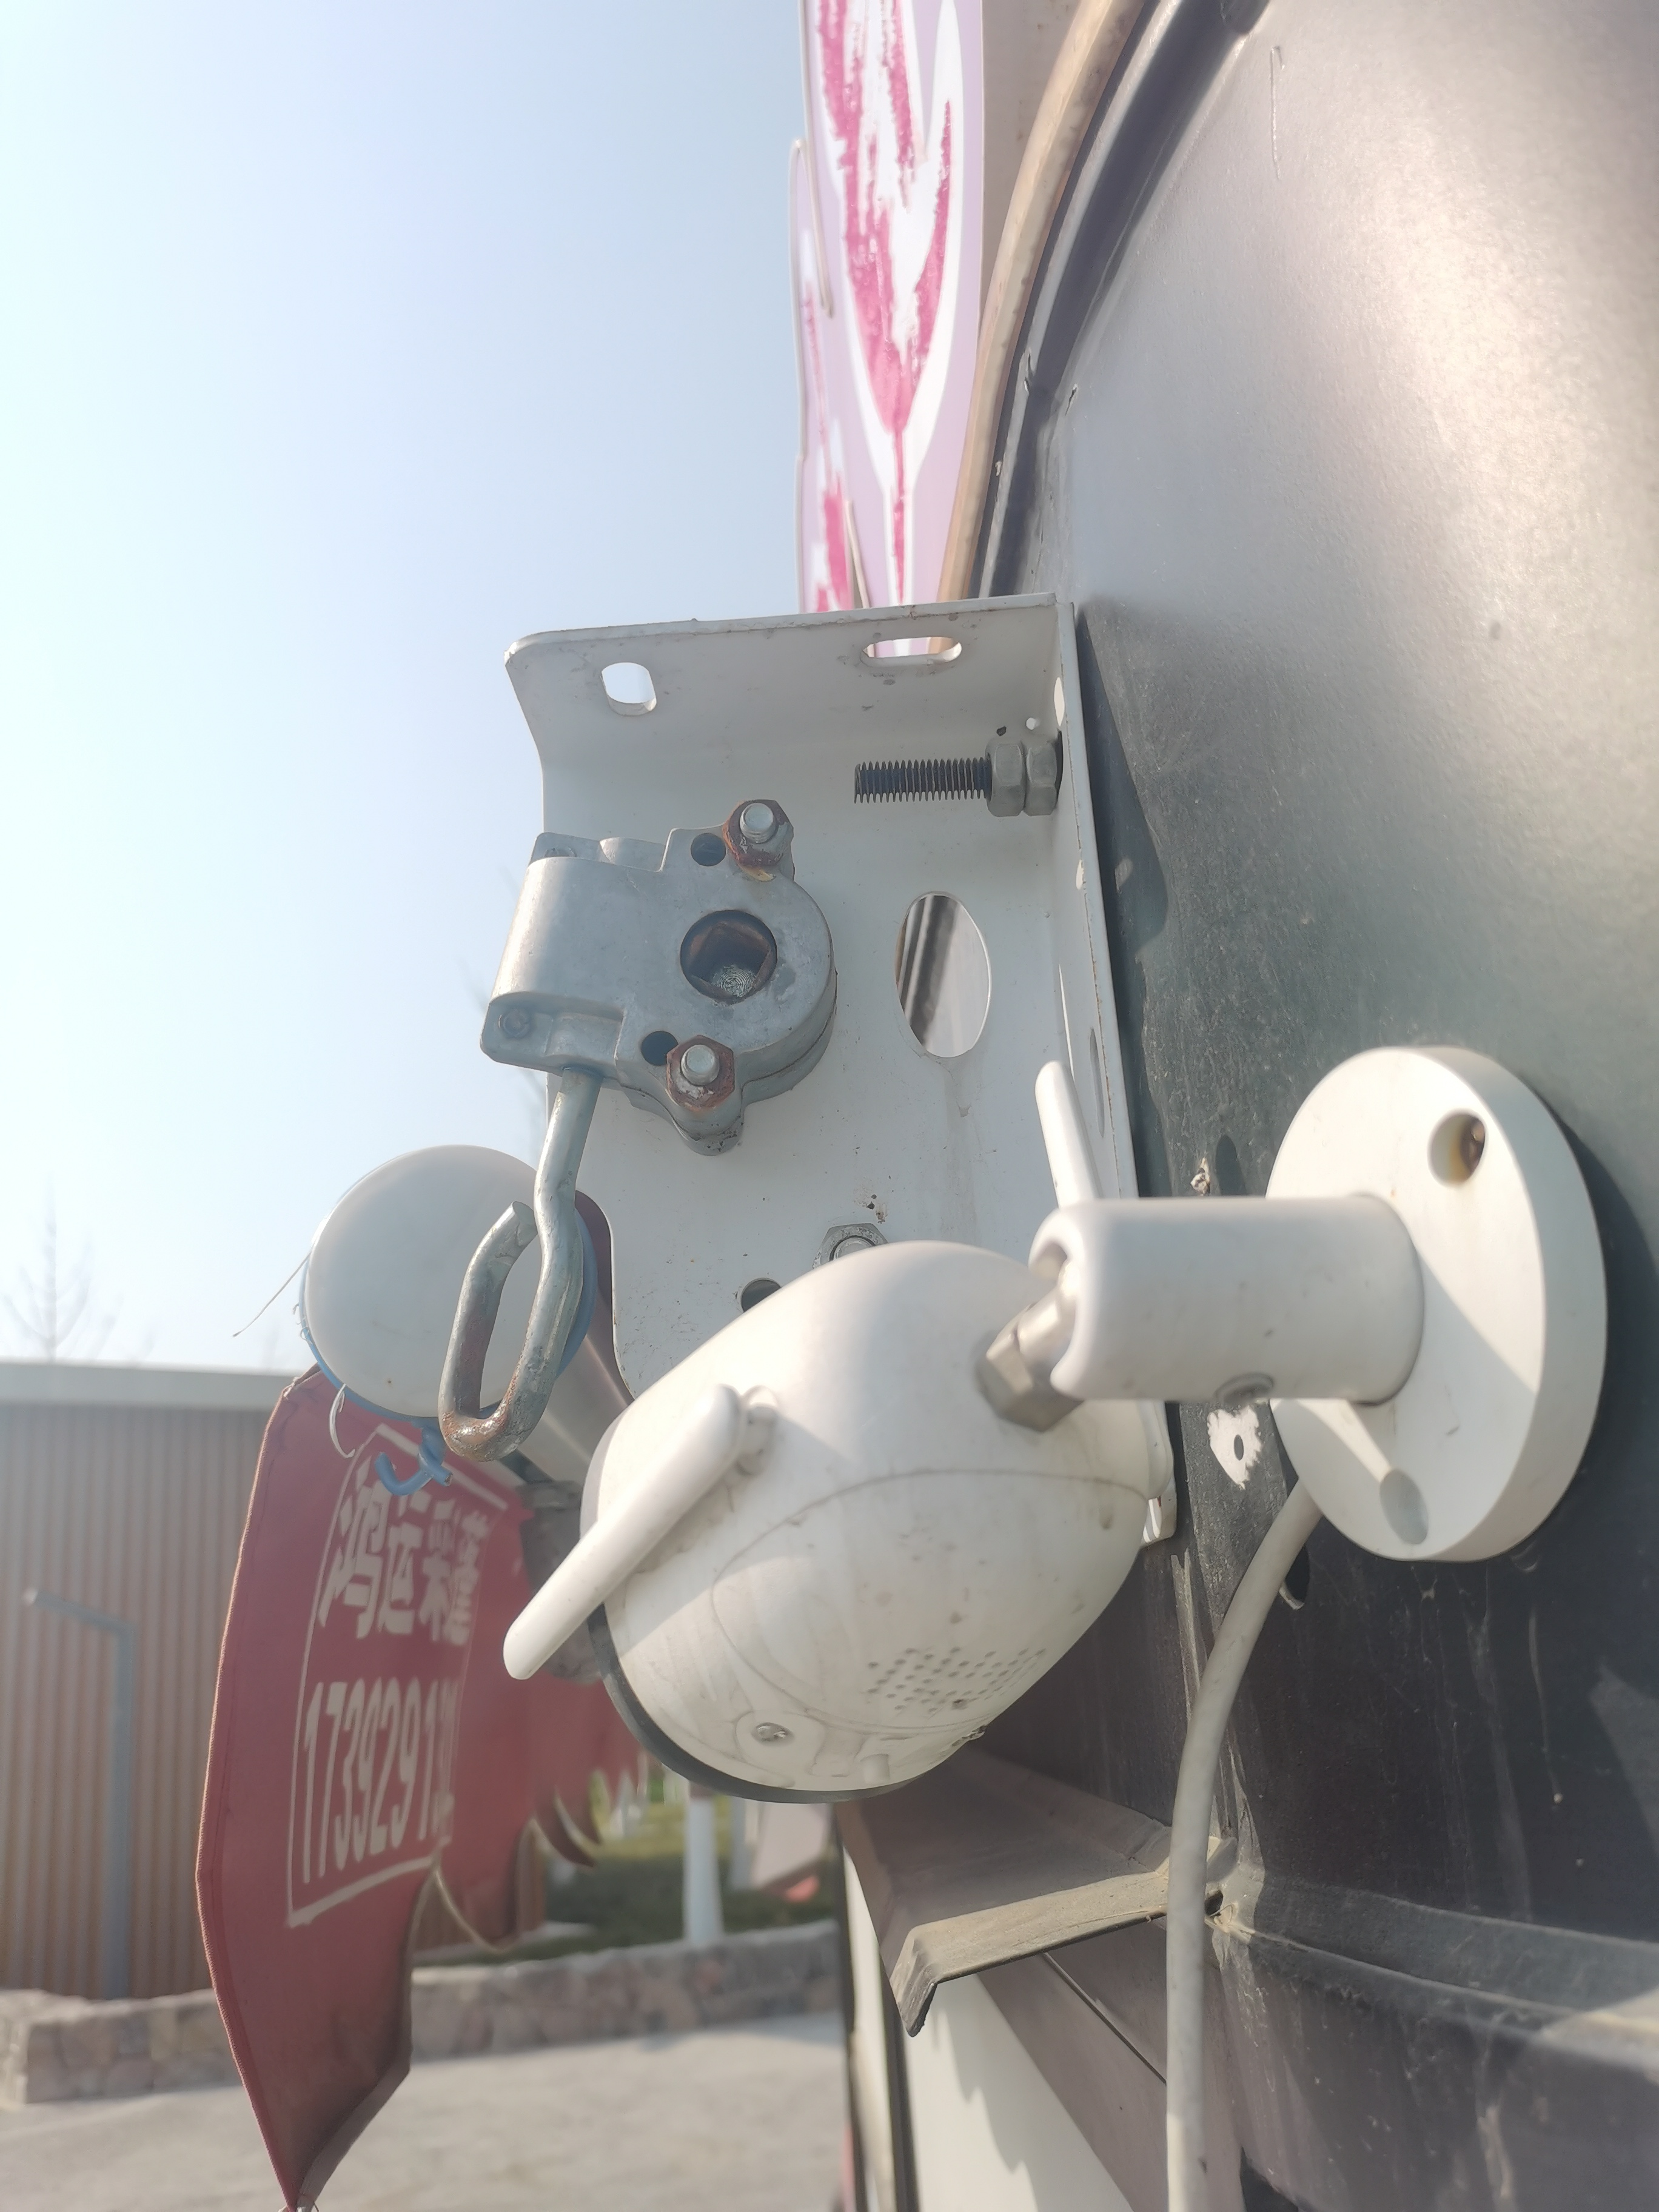bolt_b: (660, 1028, 741, 1115), (716, 796, 798, 869)
bolt_c: (983, 732, 1026, 820), (1019, 728, 1060, 820)
vague: (516, 1484, 577, 1522)
